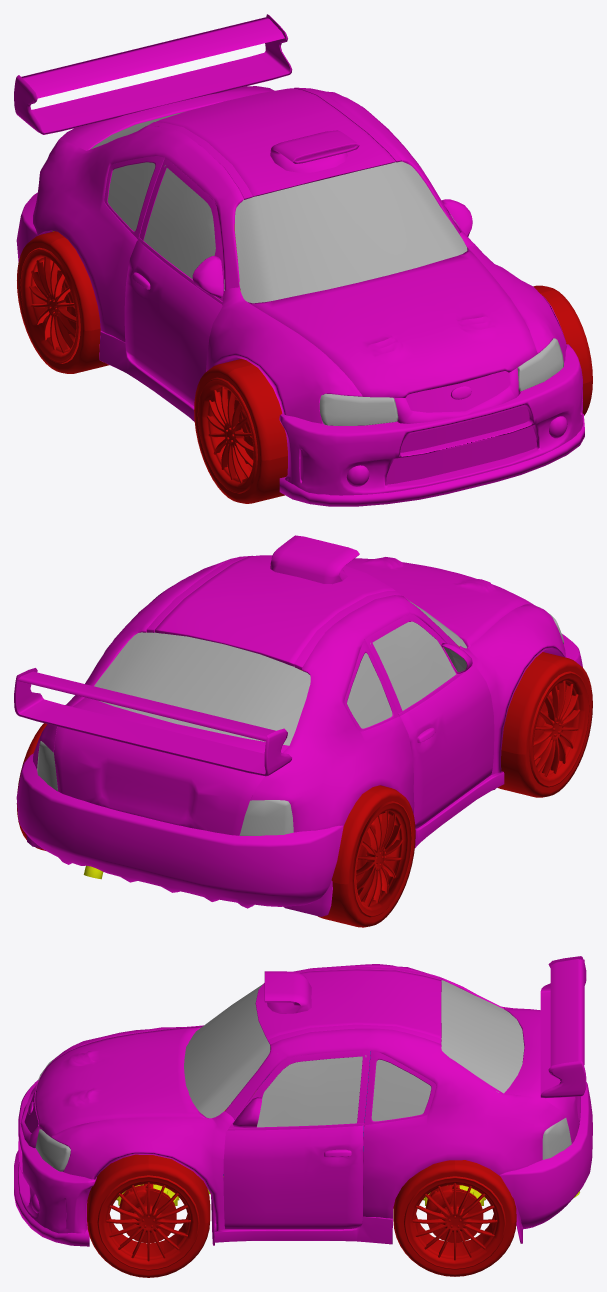
Rendered from Accent_V1.fbx.
3 renders of one model, top to bottom at view 1: azimuth 30°, elevation 25°; view 2: azimuth 150°, elevation 25°; view 3: azimuth 270°, elevation 25°, orthographic. The views are drawn at different scales.
Parts seen in each view (by area): view 1: Accent_Ext_BodyWork, Accent_Front_Bumper_V1, Accent_Ext_RDoor, Accent_Wing_V1, Accent_Ext_RTire01, Accent_Ext_RTire02, Accent_Ext_LTire01, Accent_Rear_Bumper_V1, Accent_Ext_LDoor; view 2: Accent_Ext_BodyWork, Accent_Rear_Bumper_V1, Accent_Ext_RDoor, Accent_Wing_V1, Accent_Ext_RTire01, Accent_Ext_RTire02; view 3: Accent_Ext_BodyWork, Accent_Ext_LDoor, Accent_Ext_LTire01, Accent_Ext_LTire02, Accent_Wing_V1, Accent_Front_Bumper_V1, Accent_Rear_Bumper_V1, Accent.
Part boxes in pixels (x1,y1,x2,y2): Accent_Ext_BodyWork: (33, 86, 566, 425); Accent_Front_Bumper_V1: (279, 344, 584, 506); Accent_Ext_RDoor: (124, 158, 223, 406); Accent_Wing_V1: (14, 14, 292, 134); Accent_Ext_RTire01: (194, 359, 287, 503); Accent_Ext_RTire02: (17, 231, 109, 373); Accent_Ext_LTire01: (533, 285, 592, 415); Accent_Rear_Bumper_V1: (16, 192, 53, 261); Accent_Ext_LDoor: (365, 109, 481, 251); Accent_Ext_BodyWork: (26, 535, 565, 916); Accent_Rear_Bumper_V1: (16, 753, 343, 908); Accent_Ext_RDoor: (365, 613, 494, 828); Accent_Wing_V1: (14, 668, 291, 776); Accent_Ext_RTire01: (498, 652, 592, 797); Accent_Ext_RTire02: (318, 785, 415, 927); Accent_Ext_BodyWork: (20, 964, 580, 1245); Accent_Ext_LDoor: (223, 1050, 370, 1229); Accent_Ext_LTire01: (87, 1154, 210, 1277); Accent_Ext_LTire02: (393, 1160, 516, 1276); Accent_Wing_V1: (540, 956, 586, 1098); Accent_Front_Bumper_V1: (14, 1079, 96, 1246); Accent_Rear_Bumper_V1: (500, 1082, 592, 1229); Accent: (119, 1184, 459, 1214).
Size of the model in its own units: 34.2 by 25.77 by 59.54.
